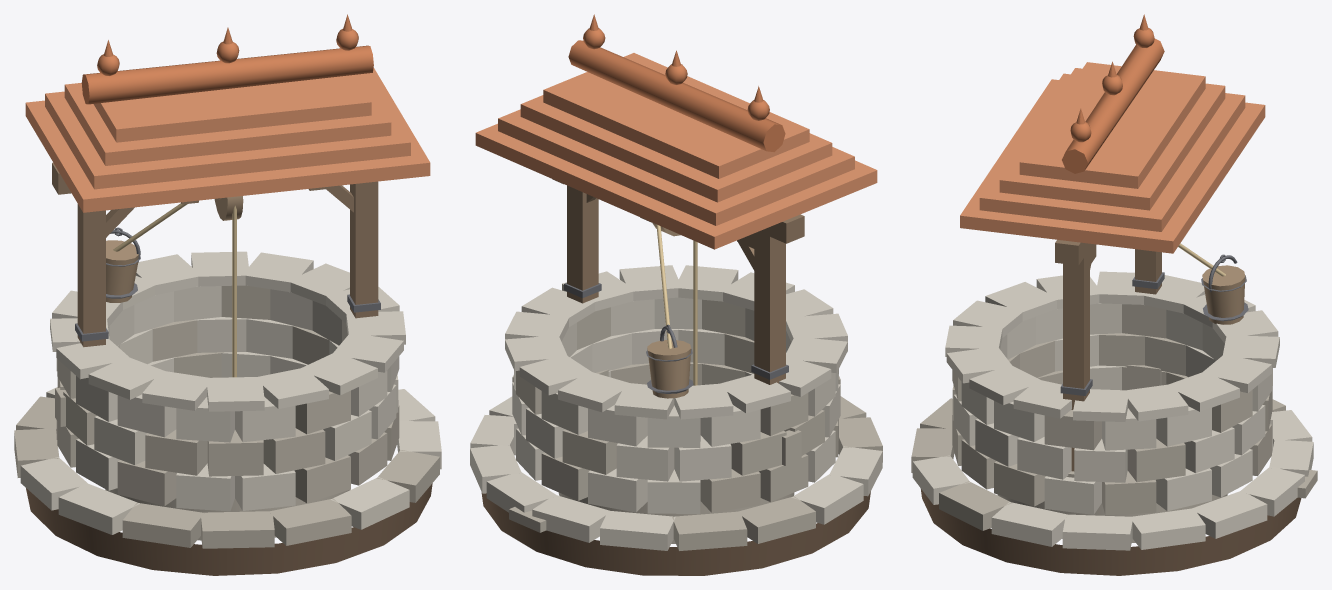
The model's file is south_indian_village_stone_well.glb.
3 renders of one model, left to right at view 1: azimuth 30°, elevation 25°; view 2: azimuth 150°, elevation 25°; view 3: azimuth 270°, elevation 25°, orthographic. The views are drawn at different scales.
Visible parts, largest first — view 1: Well_Circular_Stone_Parapet, Well_Terracotta_Canopy_Roof, Well_Coping_Rim_Slabs, Well_Granite_Adhisthana_Apron, Well_Subgrade_Foundation_Skirt, Timber_Post_Right, Timber_Post_Left, Well_Wooden_Bucket_With_Iron_Hoops, Braided_Coir_Well_Rope, Well_Wooden_Pulley_Assembly; view 2: Well_Terracotta_Canopy_Roof, Well_Circular_Stone_Parapet, Well_Coping_Rim_Slabs, Well_Granite_Adhisthana_Apron, Well_Subgrade_Foundation_Skirt, Timber_Post_Right, Timber_Post_Left, Well_Wooden_Bucket_With_Iron_Hoops, Braided_Coir_Well_Rope, Well_Teak_Timber_Structure; view 3: Well_Circular_Stone_Parapet, Well_Terracotta_Canopy_Roof, Well_Coping_Rim_Slabs, Well_Granite_Adhisthana_Apron, Well_Subgrade_Foundation_Skirt, Timber_Post_Left, Well_Wooden_Bucket_With_Iron_Hoops, Timber_Post_Right, Well_Teak_Timber_Structure.
Boxes of the visible parts, x1,y1,x2,y2 form: Well_Circular_Stone_Parapet: [55, 285, 399, 540]; Well_Terracotta_Canopy_Roof: [25, 14, 430, 212]; Well_Coping_Rim_Slabs: [50, 251, 405, 411]; Well_Granite_Adhisthana_Apron: [14, 387, 441, 548]; Well_Subgrade_Foundation_Skirt: [26, 483, 432, 575]; Timber_Post_Right: [75, 204, 134, 347]; Timber_Post_Left: [326, 181, 380, 318]; Well_Wooden_Bucket_With_Iron_Hoops: [106, 227, 140, 302]; Braided_Coir_Well_Rope: [113, 203, 236, 377]; Well_Wooden_Pulley_Assembly: [214, 196, 243, 220]; Well_Terracotta_Canopy_Roof: [475, 14, 877, 249]; Well_Circular_Stone_Parapet: [512, 297, 840, 543]; Well_Coping_Rim_Slabs: [505, 265, 847, 419]; Well_Granite_Adhisthana_Apron: [470, 396, 882, 550]; Well_Subgrade_Foundation_Skirt: [481, 491, 870, 575]; Timber_Post_Right: [737, 231, 788, 384]; Timber_Post_Left: [564, 185, 608, 376]; Well_Wooden_Bucket_With_Iron_Hoops: [646, 324, 693, 398]; Braided_Coir_Well_Rope: [656, 224, 697, 385]; Well_Teak_Timber_Structure: [552, 179, 804, 243]; Well_Circular_Stone_Parapet: [952, 303, 1272, 542]; Well_Terracotta_Canopy_Roof: [960, 14, 1265, 253]; Well_Coping_Rim_Slabs: [945, 271, 1279, 421]; Well_Granite_Adhisthana_Apron: [911, 398, 1317, 550]; Well_Subgrade_Foundation_Skirt: [920, 488, 1301, 575]; Timber_Post_Left: [1060, 244, 1096, 477]; Well_Wooden_Bucket_With_Iron_Hoops: [1201, 254, 1248, 324]; Timber_Post_Right: [1126, 249, 1164, 389]; Well_Teak_Timber_Structure: [1055, 239, 1092, 265].
Bounding box in the file's own units: 2.94 × 3.5 × 2.96.
